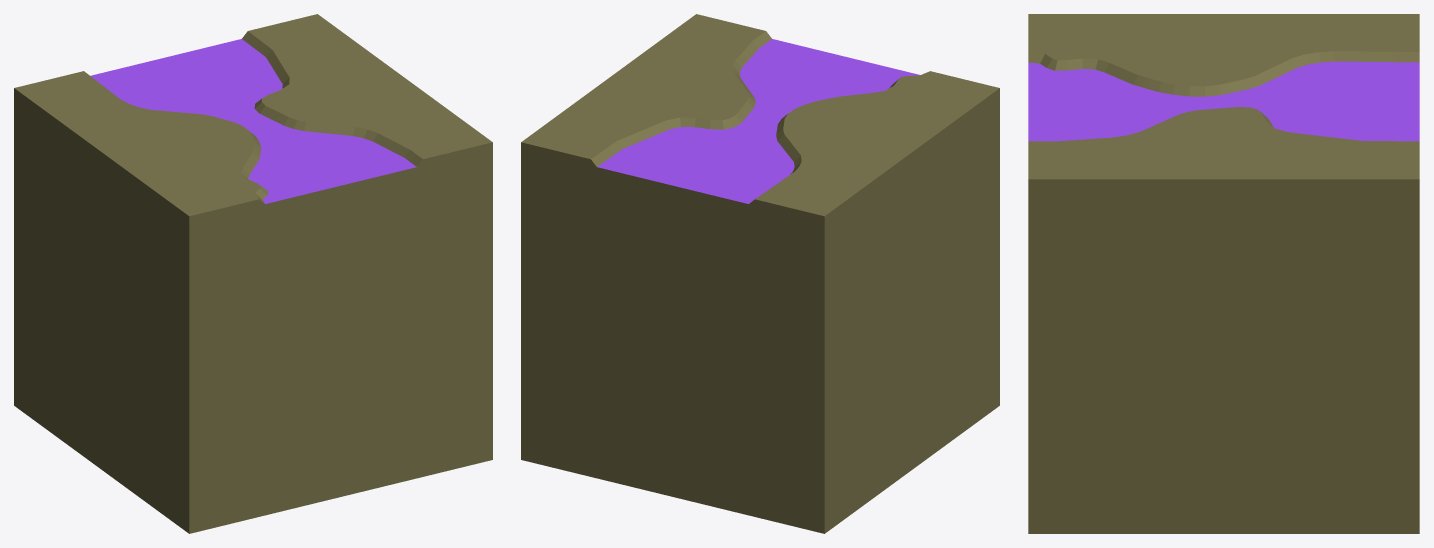
File: tile_toxic_3_05.fbx
The picture shows the model from 3 angles, left to right: view 1: azimuth 30°, elevation 25°; view 2: azimuth 150°, elevation 25°; view 3: azimuth 270°, elevation 25°; orthographic projection. The views are drawn at different scales.
Parts seen in each view (by area): view 1: tile_toxic_3_05; view 2: tile_toxic_3_05; view 3: tile_toxic_3_05.
Boxes of the visible parts, <box> form: tile_toxic_3_05: <box>14,14,492,533</box>; tile_toxic_3_05: <box>521,14,999,533</box>; tile_toxic_3_05: <box>1028,14,1419,533</box>.
Size of the model in its own units: 100 by 100 by 100.
